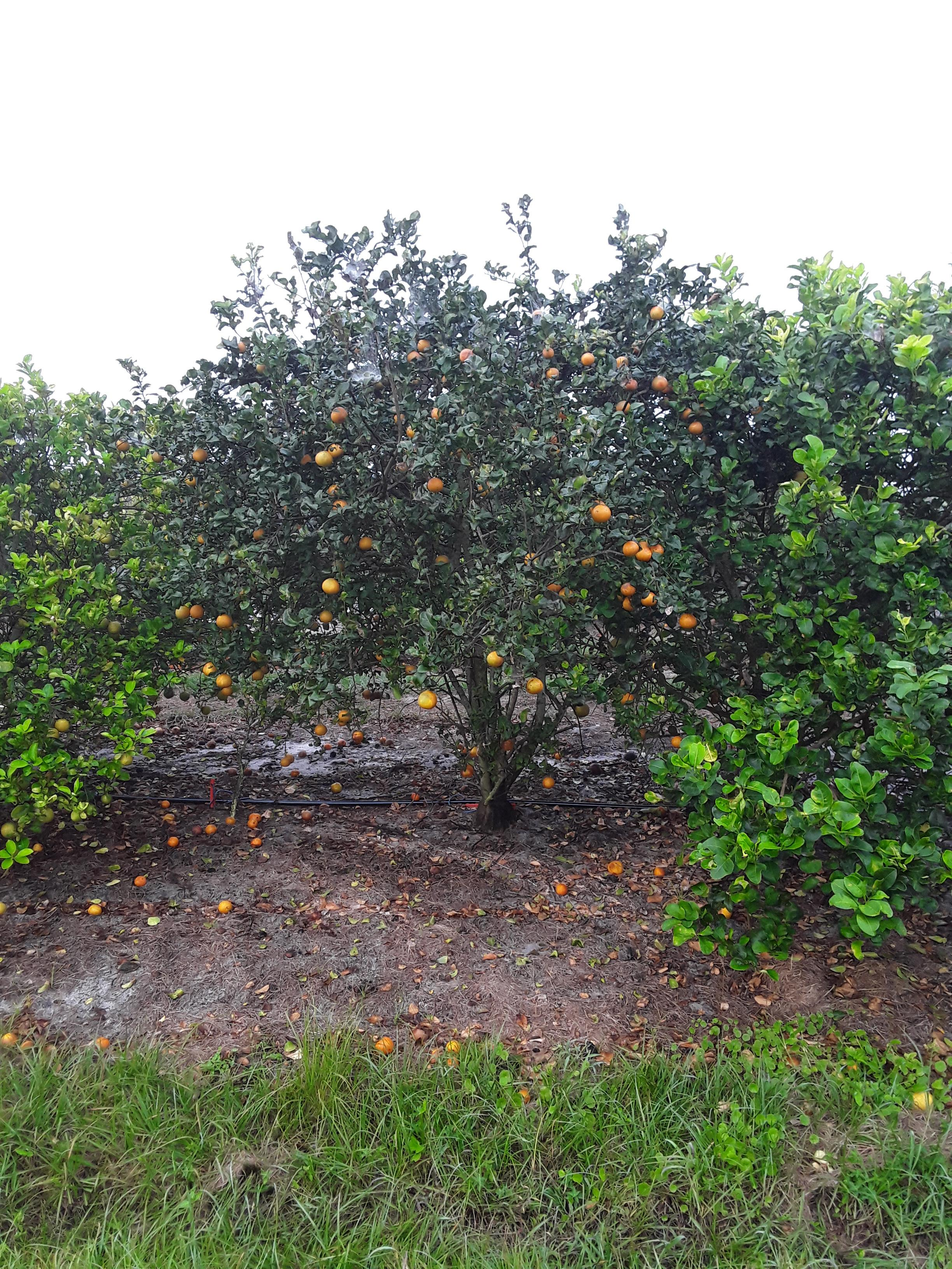fruit_on_ground: (632, 539, 655, 563), (416, 688, 439, 710), (590, 503, 613, 524), (483, 647, 506, 668), (472, 479, 496, 499), (328, 405, 350, 426), (214, 611, 236, 631), (558, 584, 579, 604), (524, 675, 545, 695), (677, 611, 698, 631), (451, 444, 473, 463), (457, 345, 478, 364), (320, 576, 341, 595), (620, 538, 639, 558), (588, 498, 609, 516), (37, 805, 56, 824), (315, 449, 334, 468), (650, 374, 669, 393), (1, 820, 19, 840), (190, 446, 210, 464), (425, 475, 445, 493), (520, 550, 541, 567), (578, 552, 597, 570), (618, 690, 637, 708), (647, 303, 666, 321), (357, 533, 375, 552), (618, 595, 638, 612), (614, 397, 632, 415), (105, 618, 123, 636), (173, 602, 191, 620), (334, 707, 352, 725), (544, 579, 563, 596), (686, 418, 705, 435), (339, 531, 357, 548), (650, 540, 668, 557), (640, 590, 657, 608), (572, 701, 590, 718), (579, 350, 597, 367), (53, 716, 71, 733), (188, 602, 205, 620), (543, 365, 562, 381), (332, 496, 351, 512), (619, 580, 638, 596), (403, 349, 422, 365), (432, 551, 452, 566), (114, 437, 131, 454), (328, 441, 345, 458), (117, 751, 135, 767), (415, 336, 433, 352), (669, 734, 686, 750), (499, 736, 516, 752), (318, 608, 335, 624), (325, 482, 343, 497), (614, 354, 632, 369), (429, 406, 445, 422), (254, 360, 270, 376), (202, 661, 218, 677), (679, 406, 696, 421), (68, 808, 85, 823), (393, 460, 411, 474), (622, 377, 638, 392), (251, 526, 266, 542), (233, 339, 249, 354), (149, 450, 165, 465), (215, 673, 232, 687), (48, 479, 63, 494), (392, 411, 407, 426), (184, 472, 198, 488), (403, 662, 419, 676), (44, 726, 60, 740), (150, 515, 166, 529), (248, 649, 263, 663), (193, 531, 207, 546), (467, 742, 481, 757), (541, 345, 556, 359), (313, 722, 328, 736), (250, 668, 265, 682), (291, 520, 307, 533), (374, 650, 388, 664), (350, 730, 364, 744), (220, 683, 234, 697), (404, 425, 418, 439), (200, 702, 213, 717), (100, 532, 115, 545), (99, 792, 113, 805), (361, 687, 374, 701), (161, 687, 175, 700), (278, 757, 292, 769), (178, 690, 191, 702), (258, 662, 270, 675), (142, 509, 155, 521), (283, 753, 295, 764), (373, 690, 383, 700)
fruit_on_tree: (908, 1087, 937, 1115), (374, 1035, 396, 1055), (515, 1086, 533, 1106), (604, 859, 624, 877), (716, 903, 734, 920), (445, 1038, 462, 1055), (2, 1030, 18, 1048), (443, 1053, 460, 1069), (86, 901, 103, 917), (217, 898, 234, 914), (651, 863, 667, 879), (95, 1035, 111, 1051), (459, 764, 475, 779), (553, 881, 569, 896), (622, 748, 639, 762), (541, 774, 555, 789), (133, 874, 148, 888), (31, 840, 46, 853), (313, 723, 327, 736), (165, 836, 180, 848), (248, 811, 262, 823), (330, 781, 343, 793), (300, 809, 313, 821), (320, 741, 334, 752), (224, 814, 236, 826), (0, 900, 9, 916), (151, 726, 164, 737), (205, 739, 218, 750), (159, 798, 172, 809), (204, 823, 217, 834), (246, 818, 259, 829), (296, 748, 308, 759), (250, 836, 262, 847), (191, 824, 203, 835), (551, 750, 564, 760), (242, 766, 253, 777), (410, 791, 421, 802), (170, 725, 182, 735), (226, 767, 238, 777), (377, 735, 388, 745), (335, 737, 346, 747), (289, 768, 301, 777), (386, 739, 395, 746)
